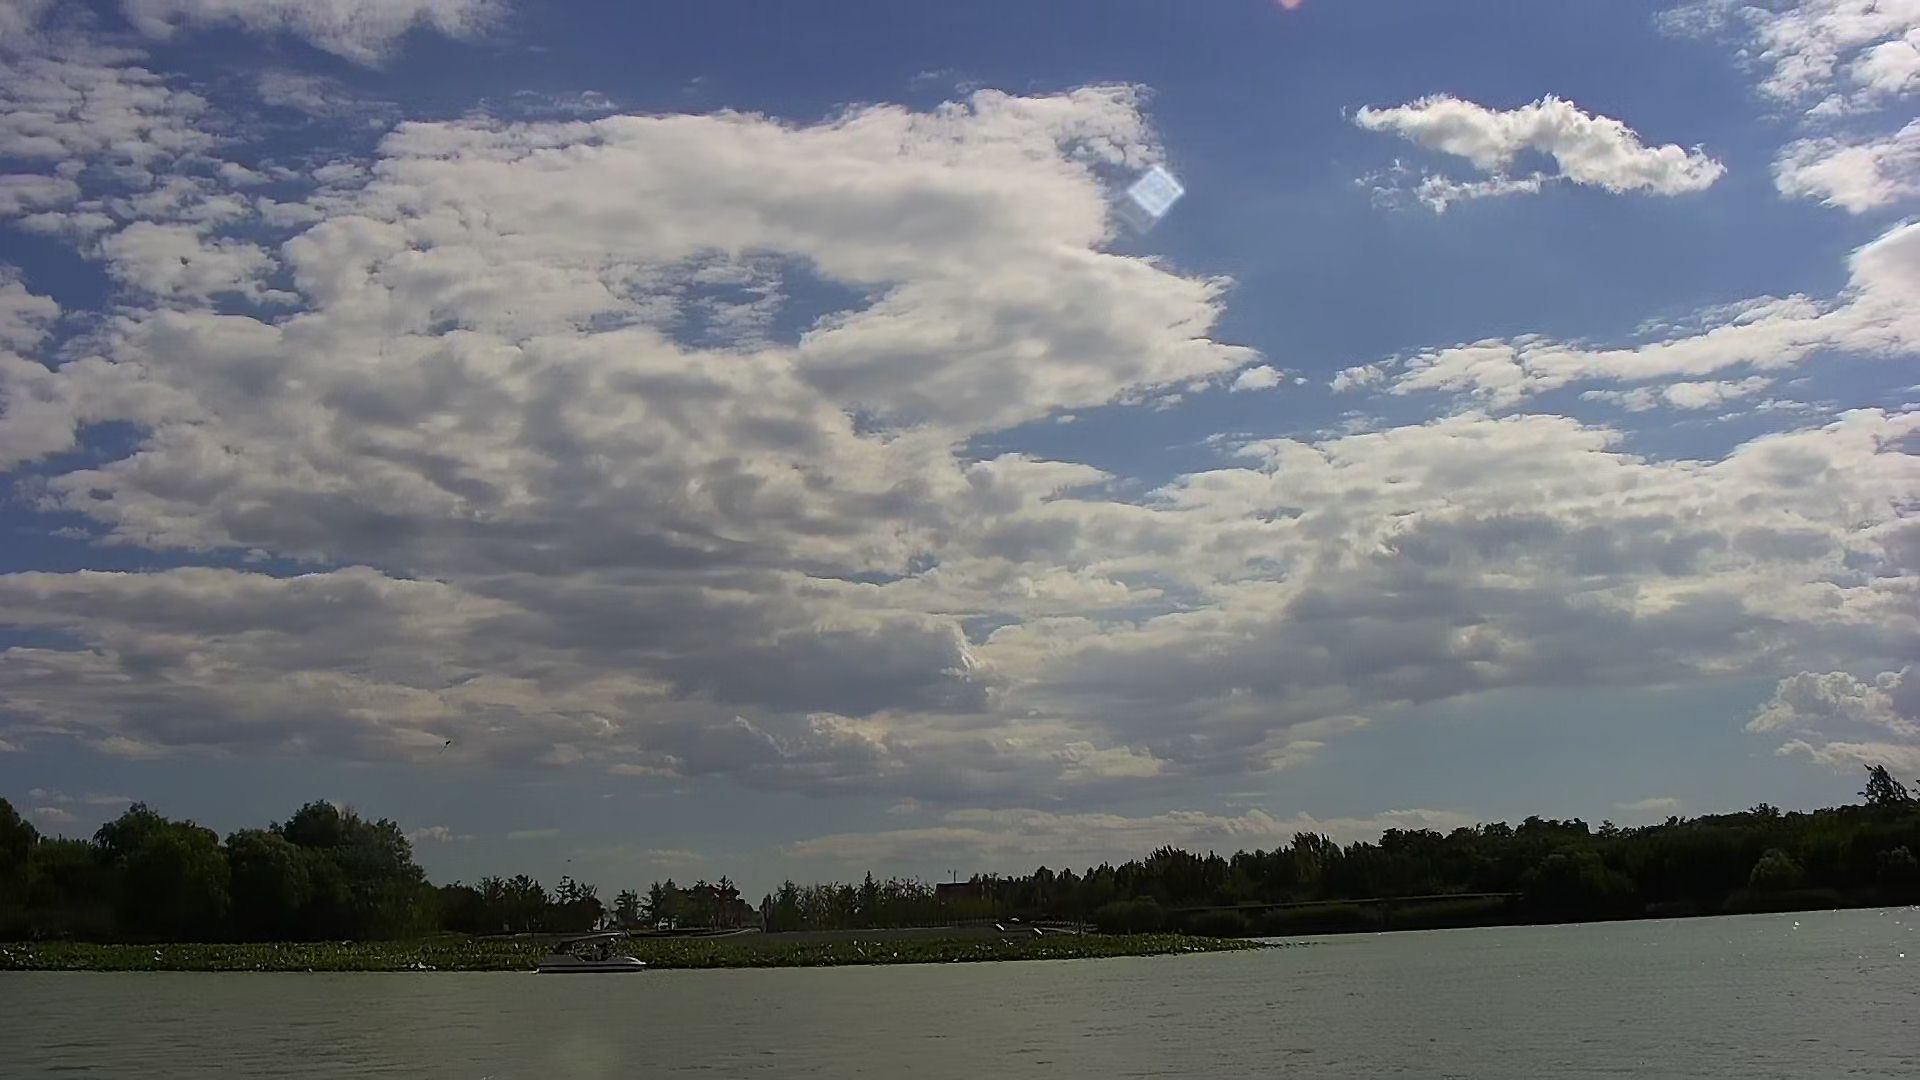boat: (531, 920, 654, 978)
